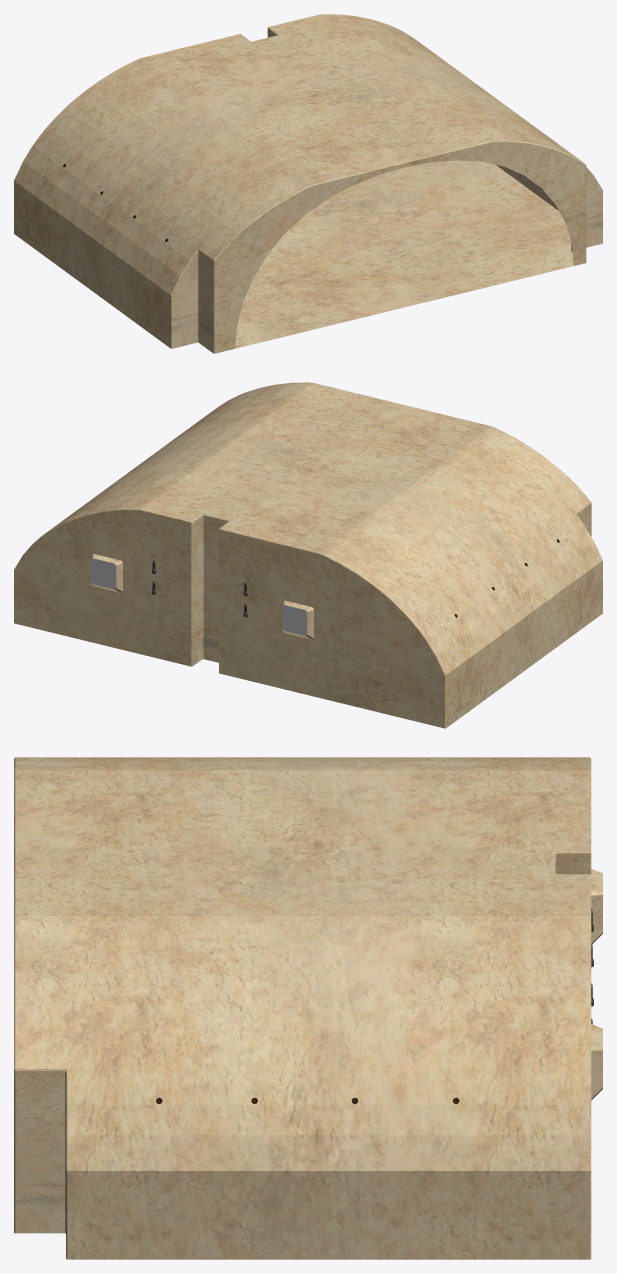
The model's file is thm_tato_cantina_r4_alcove1_mesh_r4.fbx.
3 views of the same model, one above another, from view 1: azimuth 30°, elevation 25°; view 2: azimuth 150°, elevation 25°; view 3: azimuth 270°, elevation 25° (orthographic). The views are drawn at different scales.
Parts seen in each view (by area): view 1: mesh_node; view 2: mesh_node; view 3: mesh_node.
Boxes of the visible parts, <box> form: mesh_node: <box>14,14,602,353</box>; mesh_node: <box>14,382,602,728</box>; mesh_node: <box>14,757,602,1259</box>.
Bounding box in the file's own units: 12.97 × 4.15 × 9.2.
